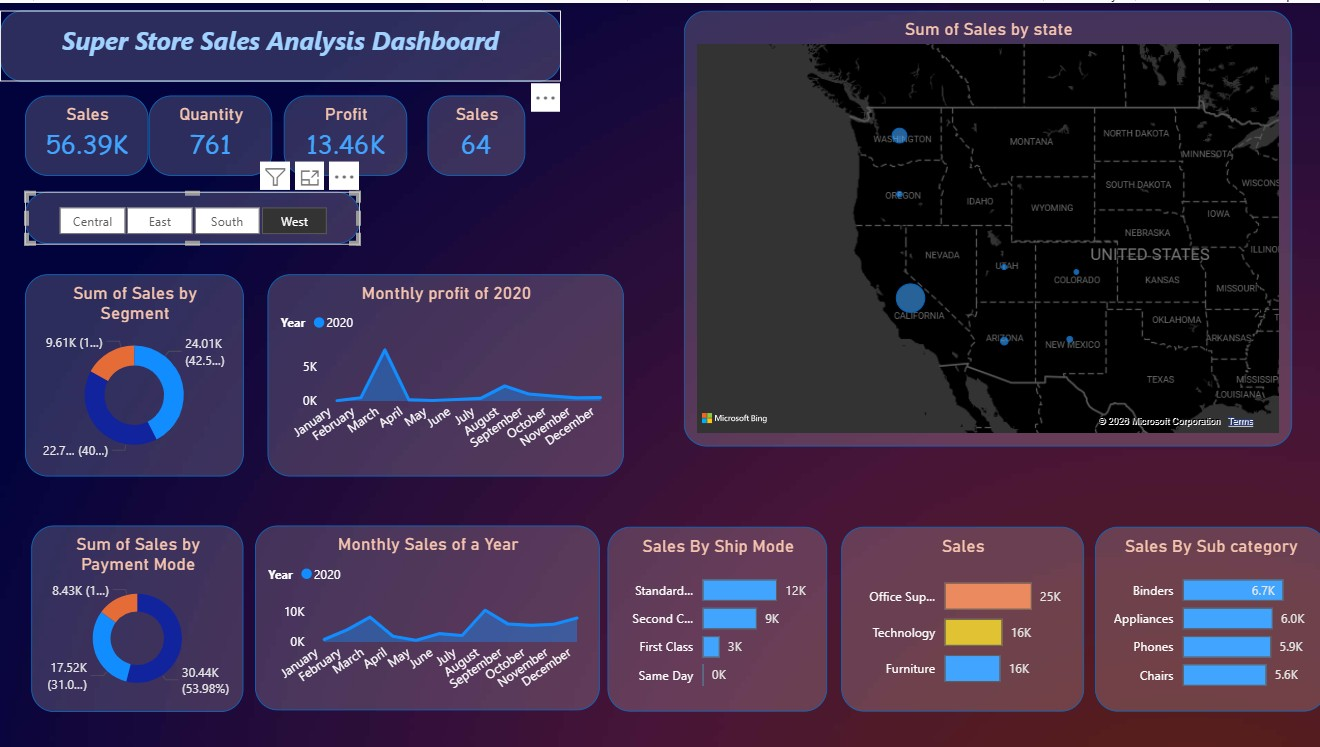

The dashboard page shown, as its layout file describes it:
{"tool":"powerbi","page":{"name":"Page 1","canvas":[1280,720],"ordinal":0},"visuals":[{"type":"clusteredBarChart","title":"Sales","fields":{"Category":["SuperStore_Sales_Dataset.Category"],"Y":["Sum(SuperStore_Sales_Dataset.Sales)"]},"box":[811.9,505.5,234,178.6],"z":0},{"type":"clusteredBarChart","title":"Sales By Sub category","fields":{"Category":["SuperStore_Sales_Dataset.Sub-Category"],"Y":["Sum(SuperStore_Sales_Dataset.Sales)"]},"box":[1056.8,505.5,223.2,178.6],"z":1000},{"type":"clusteredBarChart","title":"Sales By Ship Mode","fields":{"Category":["SuperStore_Sales_Dataset.Ship Mode"],"Y":["Sum(SuperStore_Sales_Dataset.Sales)"]},"box":[586.3,505.5,212.3,178.6],"z":2000},{"type":"areaChart","title":"Monthly Sales of a Year","fields":{"Y":["Sum(SuperStore_Sales_Dataset.Sales)"],"Category":["SuperStore_Sales_Dataset.Order Date.Variation.Date Hierarchy.Month","SuperStore_Sales_Dataset.Order Date.Variation.Date Hierarchy.Day"],"Series":["SuperStore_Sales_Dataset.Order Date.Variation.Date Hierarchy.Year"]},"box":[246.1,504.3,333,178.6],"z":3000},{"type":"areaChart","title":"Monthly profit of 2020","fields":{"Category":["SuperStore_Sales_Dataset.Order Date.Variation.Date Hierarchy.Month","SuperStore_Sales_Dataset.Order Date.Variation.Date Hierarchy.Day"],"Series":["SuperStore_Sales_Dataset.Order Date.Variation.Date Hierarchy.Year"],"Y":["Sum(SuperStore_Sales_Dataset.Profit)"]},"box":[258.2,261.8,343.8,195.4],"z":4000},{"type":"map","title":"Sum of Sales by state","fields":{"Category":["SuperStore_Sales_Dataset.State"],"Size":["Sum(SuperStore_Sales_Dataset.Sales)"]},"box":[659.9,7.2,587.5,421],"z":5000},{"type":"donutChart","fields":{"Category":["SuperStore_Sales_Dataset.Segment"],"Y":["Sum(SuperStore_Sales_Dataset.Sales)"]},"box":[24.1,261.8,211.1,195.4],"z":6000},{"type":"donutChart","fields":{"Category":["SuperStore_Sales_Dataset.Payment Mode"],"Y":["Sum(SuperStore_Sales_Dataset.Sales)"]},"box":[30.2,504.3,205.1,179.8],"z":7000},{"type":"slicer","fields":{"Values":["SuperStore_Sales_Dataset.Region"]},"box":[24.1,182.2,323.3,50.7],"z":8000},{"type":"textbox","box":[0,7.2,541.7,68.8],"z":9000},{"type":"card","title":"Sales","fields":{"Values":["Sum(SuperStore_Sales_Dataset.Sales)"]},"box":[24.1,89.3,119.4,77.2],"z":10000},{"type":"card","title":"Quantity","fields":{"Values":["Sum(SuperStore_Sales_Dataset.Quantity)"]},"box":[143.6,89.3,119.4,77.2],"z":11000},{"type":"card","title":"Profit","fields":{"Values":["Sum(SuperStore_Sales_Dataset.Profit)"]},"box":[273.9,89.3,119.4,77.2],"z":12000},{"type":"card","title":"Sales","fields":{"Values":["Count(SuperStore_Sales_Dataset.Ship Date)"]},"box":[412.6,89.3,94.1,77.2],"z":13000}]}

Visuals, with their boxes in screenshot pixels (x1, y1, x2, y2), scaled from the page's 1280x720 canvas onto the 1320x747 screenshot:
"Sales" clusteredBarChart: 837,524,1079,710
"Sales By Sub category" clusteredBarChart: 1090,524,1319,710
"Sales By Ship Mode" clusteredBarChart: 605,524,824,710
"Monthly Sales of a Year" areaChart: 254,523,597,709
"Monthly profit of 2020" areaChart: 266,272,621,474
"Sum of Sales by state" map: 681,7,1286,444
donutChart - SuperStore_Sales_Dataset.Segment x Sum(SuperStore_Sales_Dataset.Sales): 25,272,243,474
donutChart - SuperStore_Sales_Dataset.Payment Mode x Sum(SuperStore_Sales_Dataset.Sales): 31,523,243,710
slicer - SuperStore_Sales_Dataset.Region: 25,189,358,242
textbox: 0,7,559,79
"Sales" card: 25,93,148,173
"Quantity" card: 148,93,271,173
"Profit" card: 282,93,406,173
"Sales" card: 425,93,523,173
